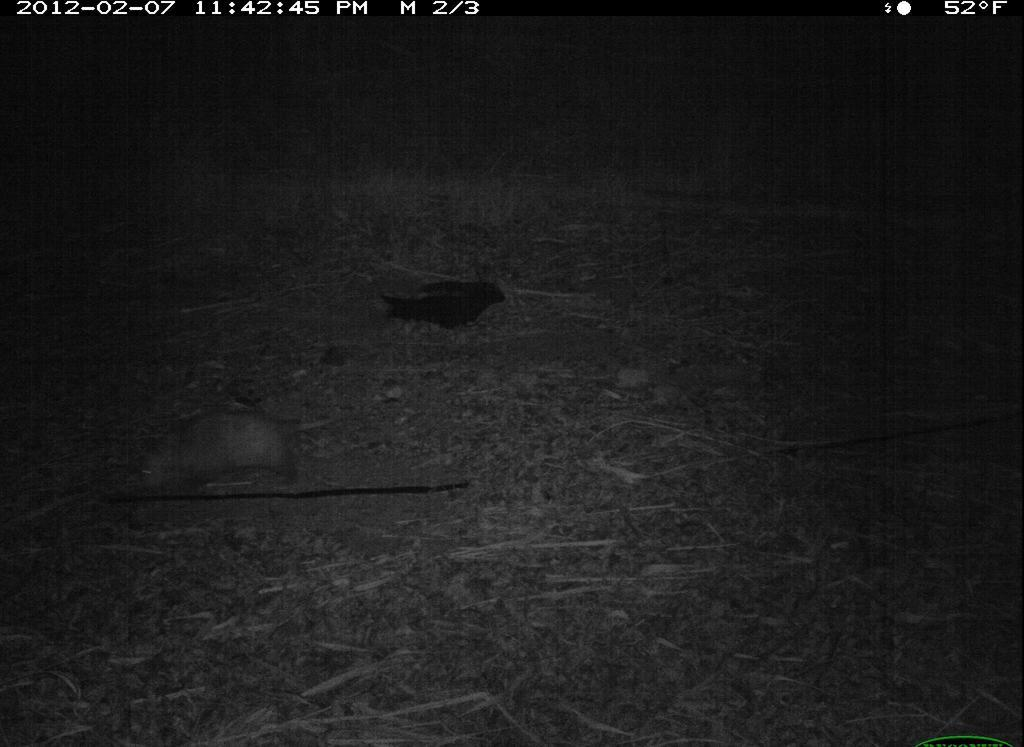opossum: (125, 387, 359, 509)
